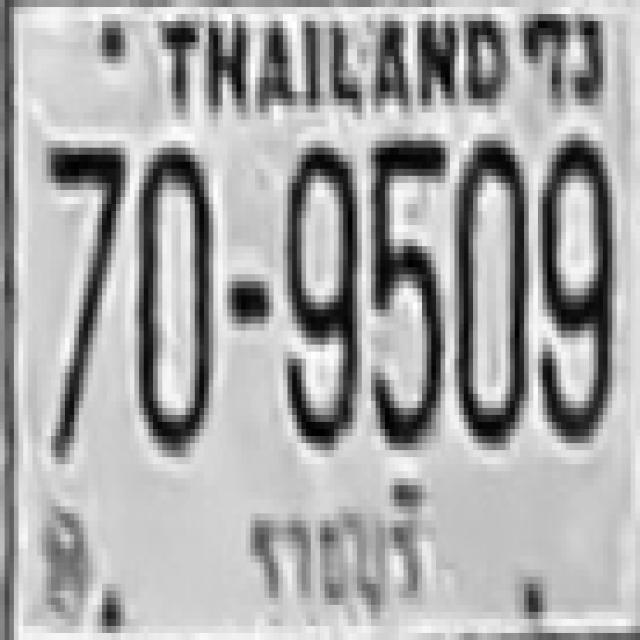0: (134, 141, 208, 450), (450, 134, 524, 436)
5: (366, 134, 441, 443)
7: (41, 144, 120, 454), (41, 141, 120, 422), (41, 140, 120, 352)
9: (534, 134, 612, 436), (283, 141, 357, 443)
RBR: (234, 475, 432, 628)
